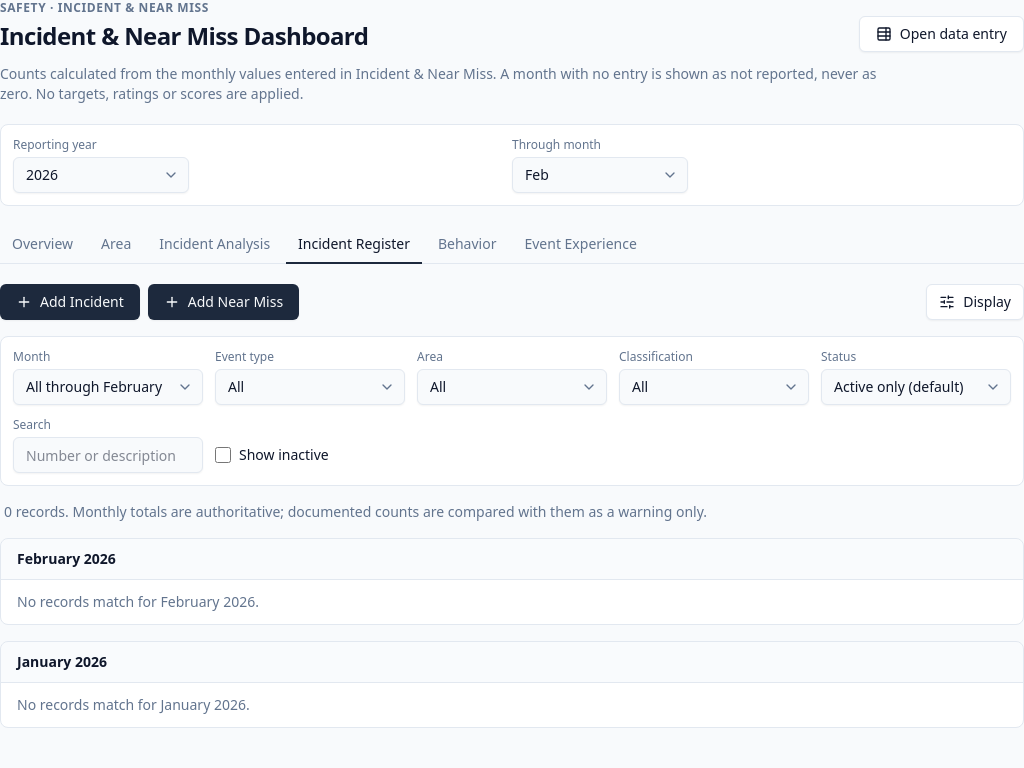
Test: Record details form › shows each detail section only for its classification
The width and height of the screenshot is (1024, 768).
Click the button "Add Incident". click: point(70, 302)
box: top-left (0, 284), bottom-right (140, 320)
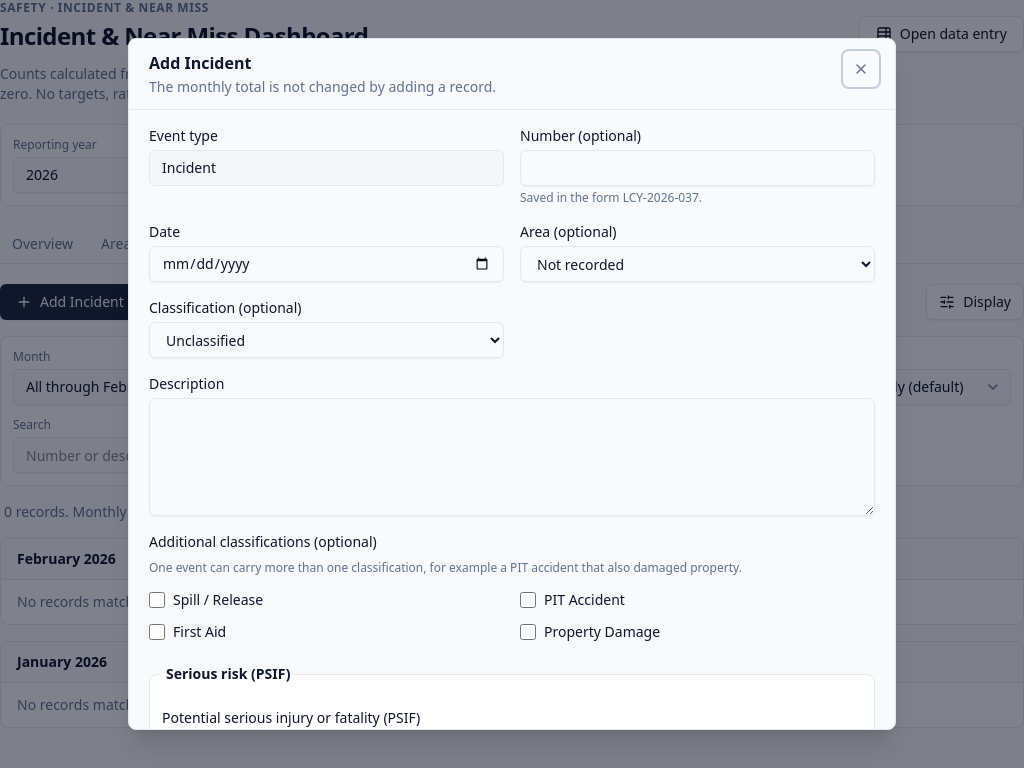
Select "Spill / Release" in the dropdown labelled "Classification (optional)". click: point(326, 340)
box: top-left (149, 322), bottom-right (504, 358)
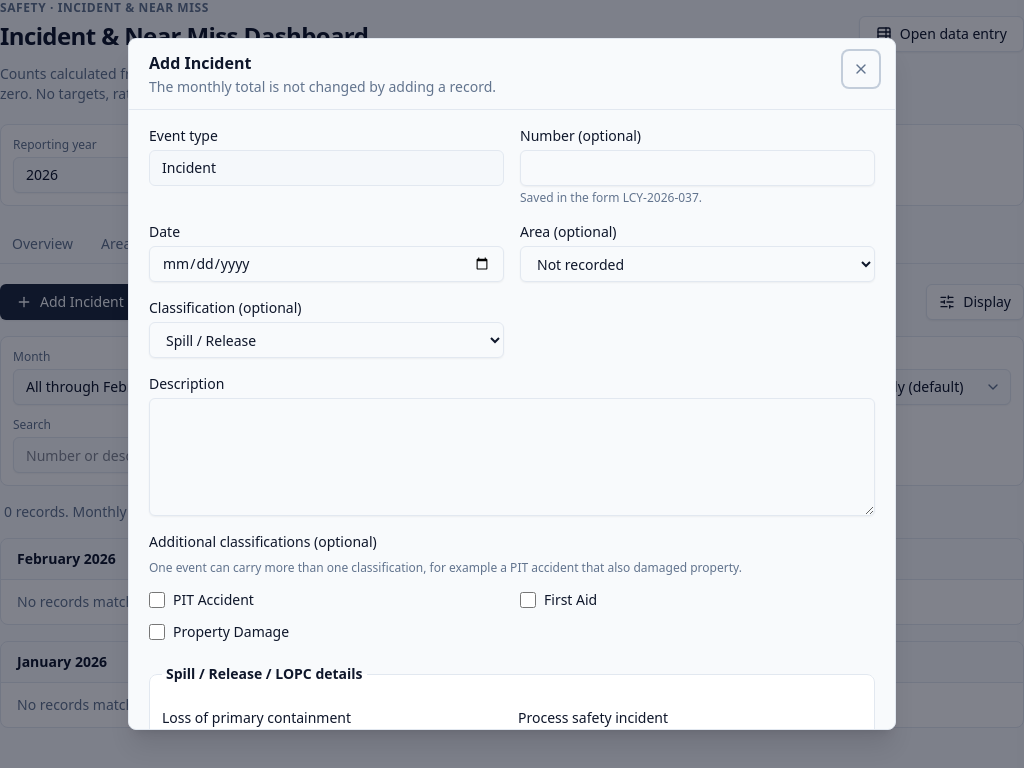
Click the checkbox labelled "PIT Accident". click: point(157, 600)
box: top-left (149, 592), bottom-right (165, 608)
(page scrolled)
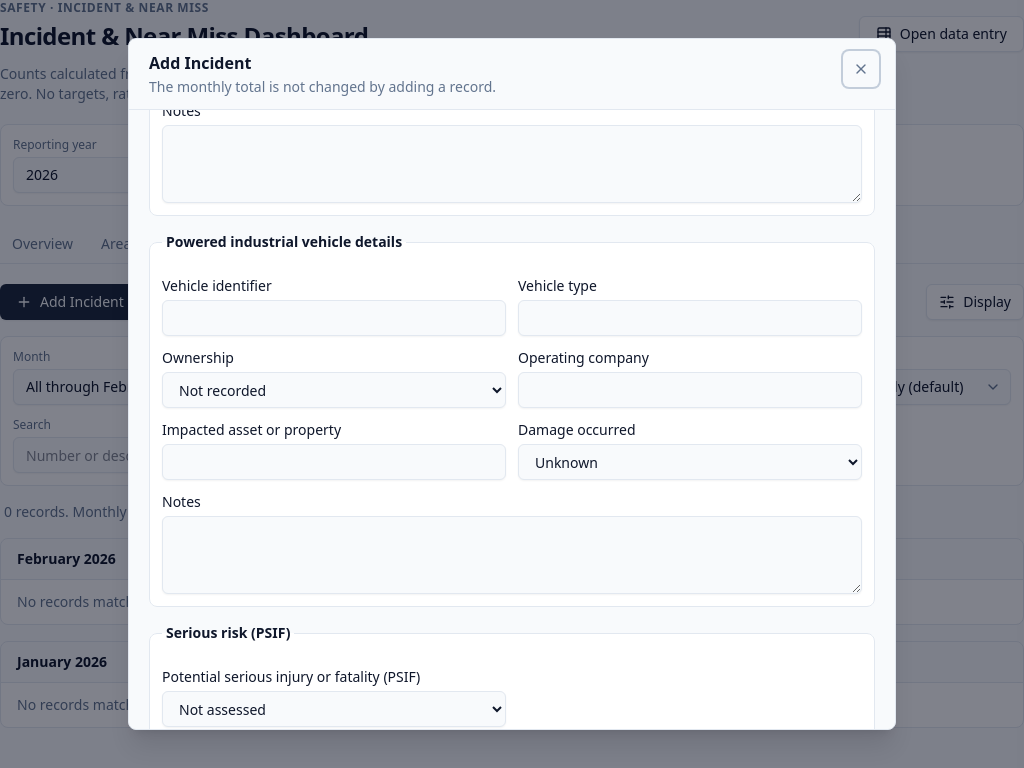
Result: the element that starts with "Powered industrial vehicle details" is shown at top-left (149, 232), bottom-right (875, 607)
